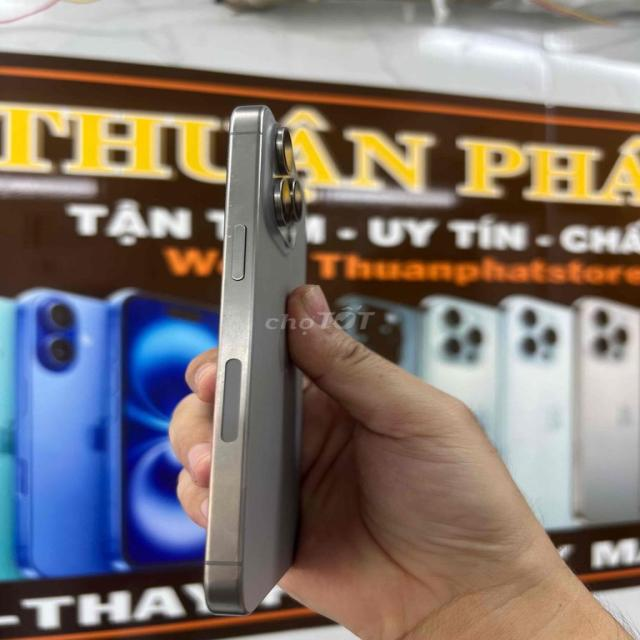gen_15: (190, 93, 317, 617)
